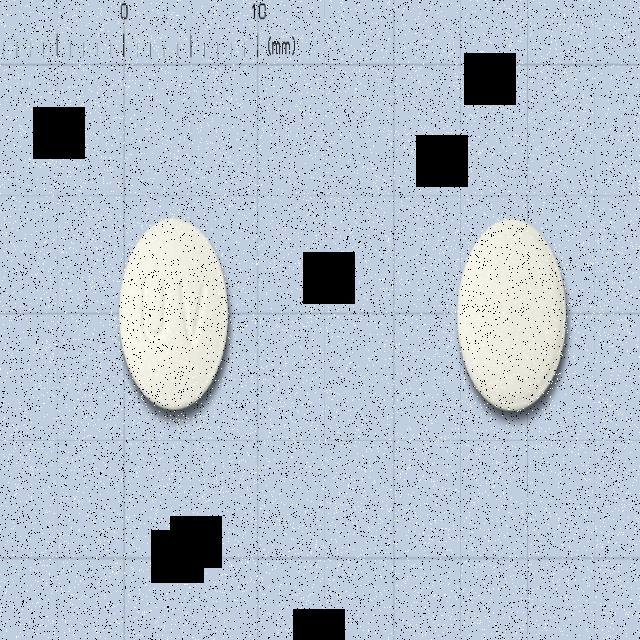Unilevo Tab: (119, 214, 230, 410)
